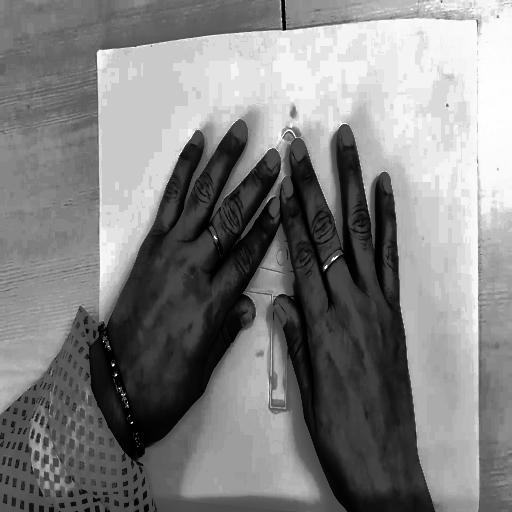signboard: (217, 117, 358, 430)
top_left: (94, 45, 101, 61)
top_right: (473, 13, 482, 30)
